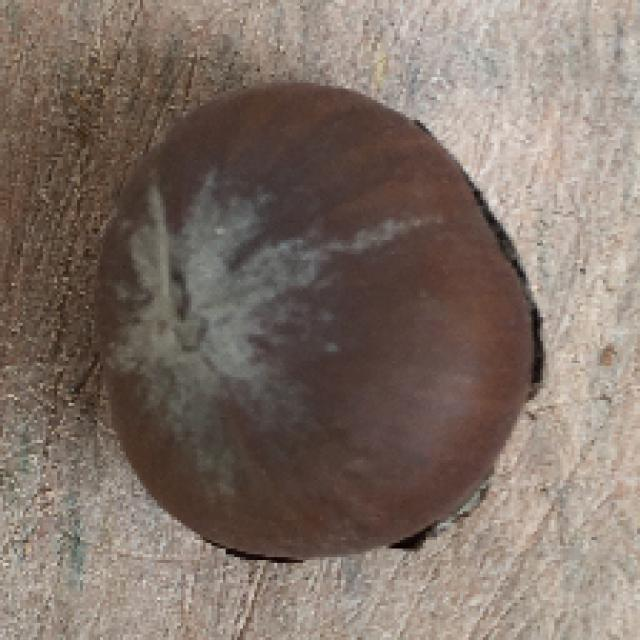damagedHazelnut: (93, 76, 549, 564)
